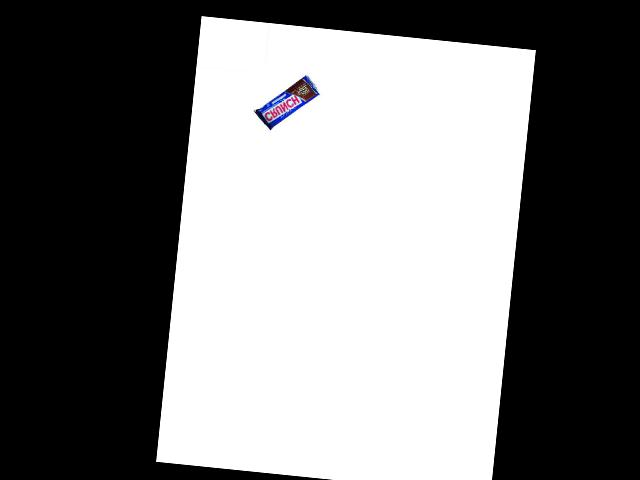chocolate: (251, 69, 322, 135)
